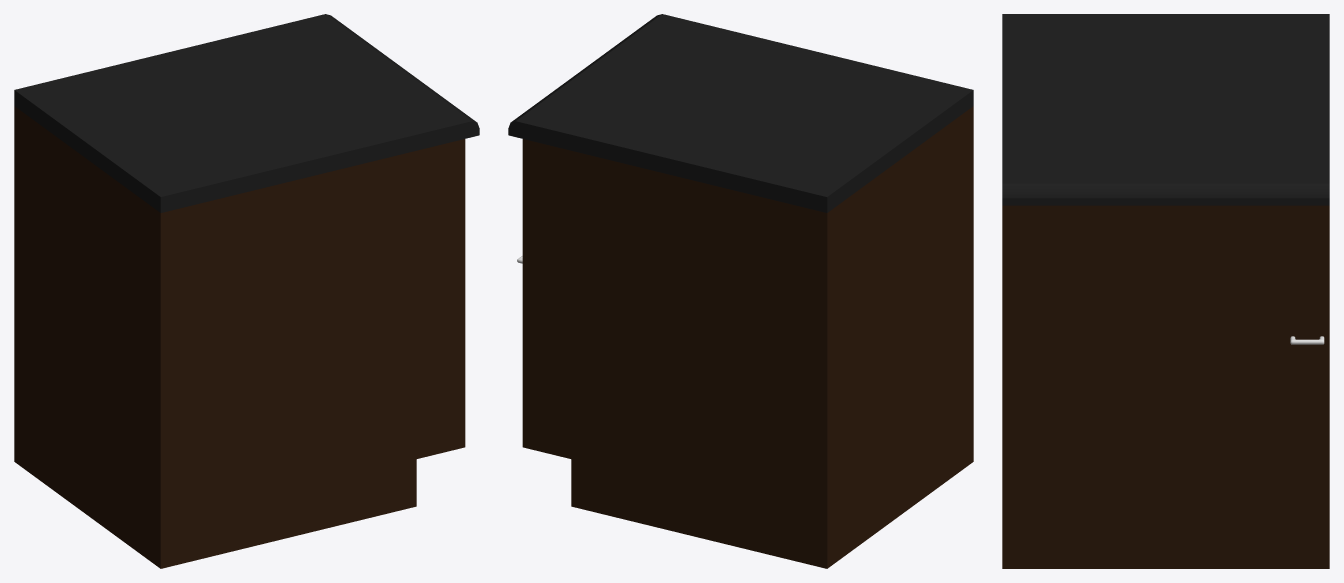
Rendered from Kaapi_TEMP.fbx.
3 renders of one model, left to right at view 1: azimuth 30°, elevation 25°; view 2: azimuth 150°, elevation 25°; view 3: azimuth 270°, elevation 25°, orthographic. The views are drawn at different scales.
Parts seen in each view (by area): view 1: Kaappi, Ovi; view 2: Kaappi, Ovi; view 3: Ovi, Kaappi.
Boxes of the visible parts, box(x1,y1,x2,y2) form: Kaappi: box(14, 14, 479, 568); Ovi: box(450, 139, 465, 450); Kaappi: box(508, 14, 973, 568); Ovi: box(517, 139, 537, 450); Ovi: box(1002, 205, 1329, 542); Kaappi: box(1002, 14, 1329, 568).
Size of the model in its own units: 62.83 by 70 by 50.
